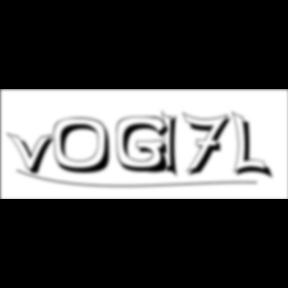7: (181, 111, 236, 179)
G: (116, 116, 176, 176)
L: (232, 110, 276, 182)
O: (54, 117, 118, 176)
l: (162, 108, 184, 182)
v: (7, 131, 61, 177)
